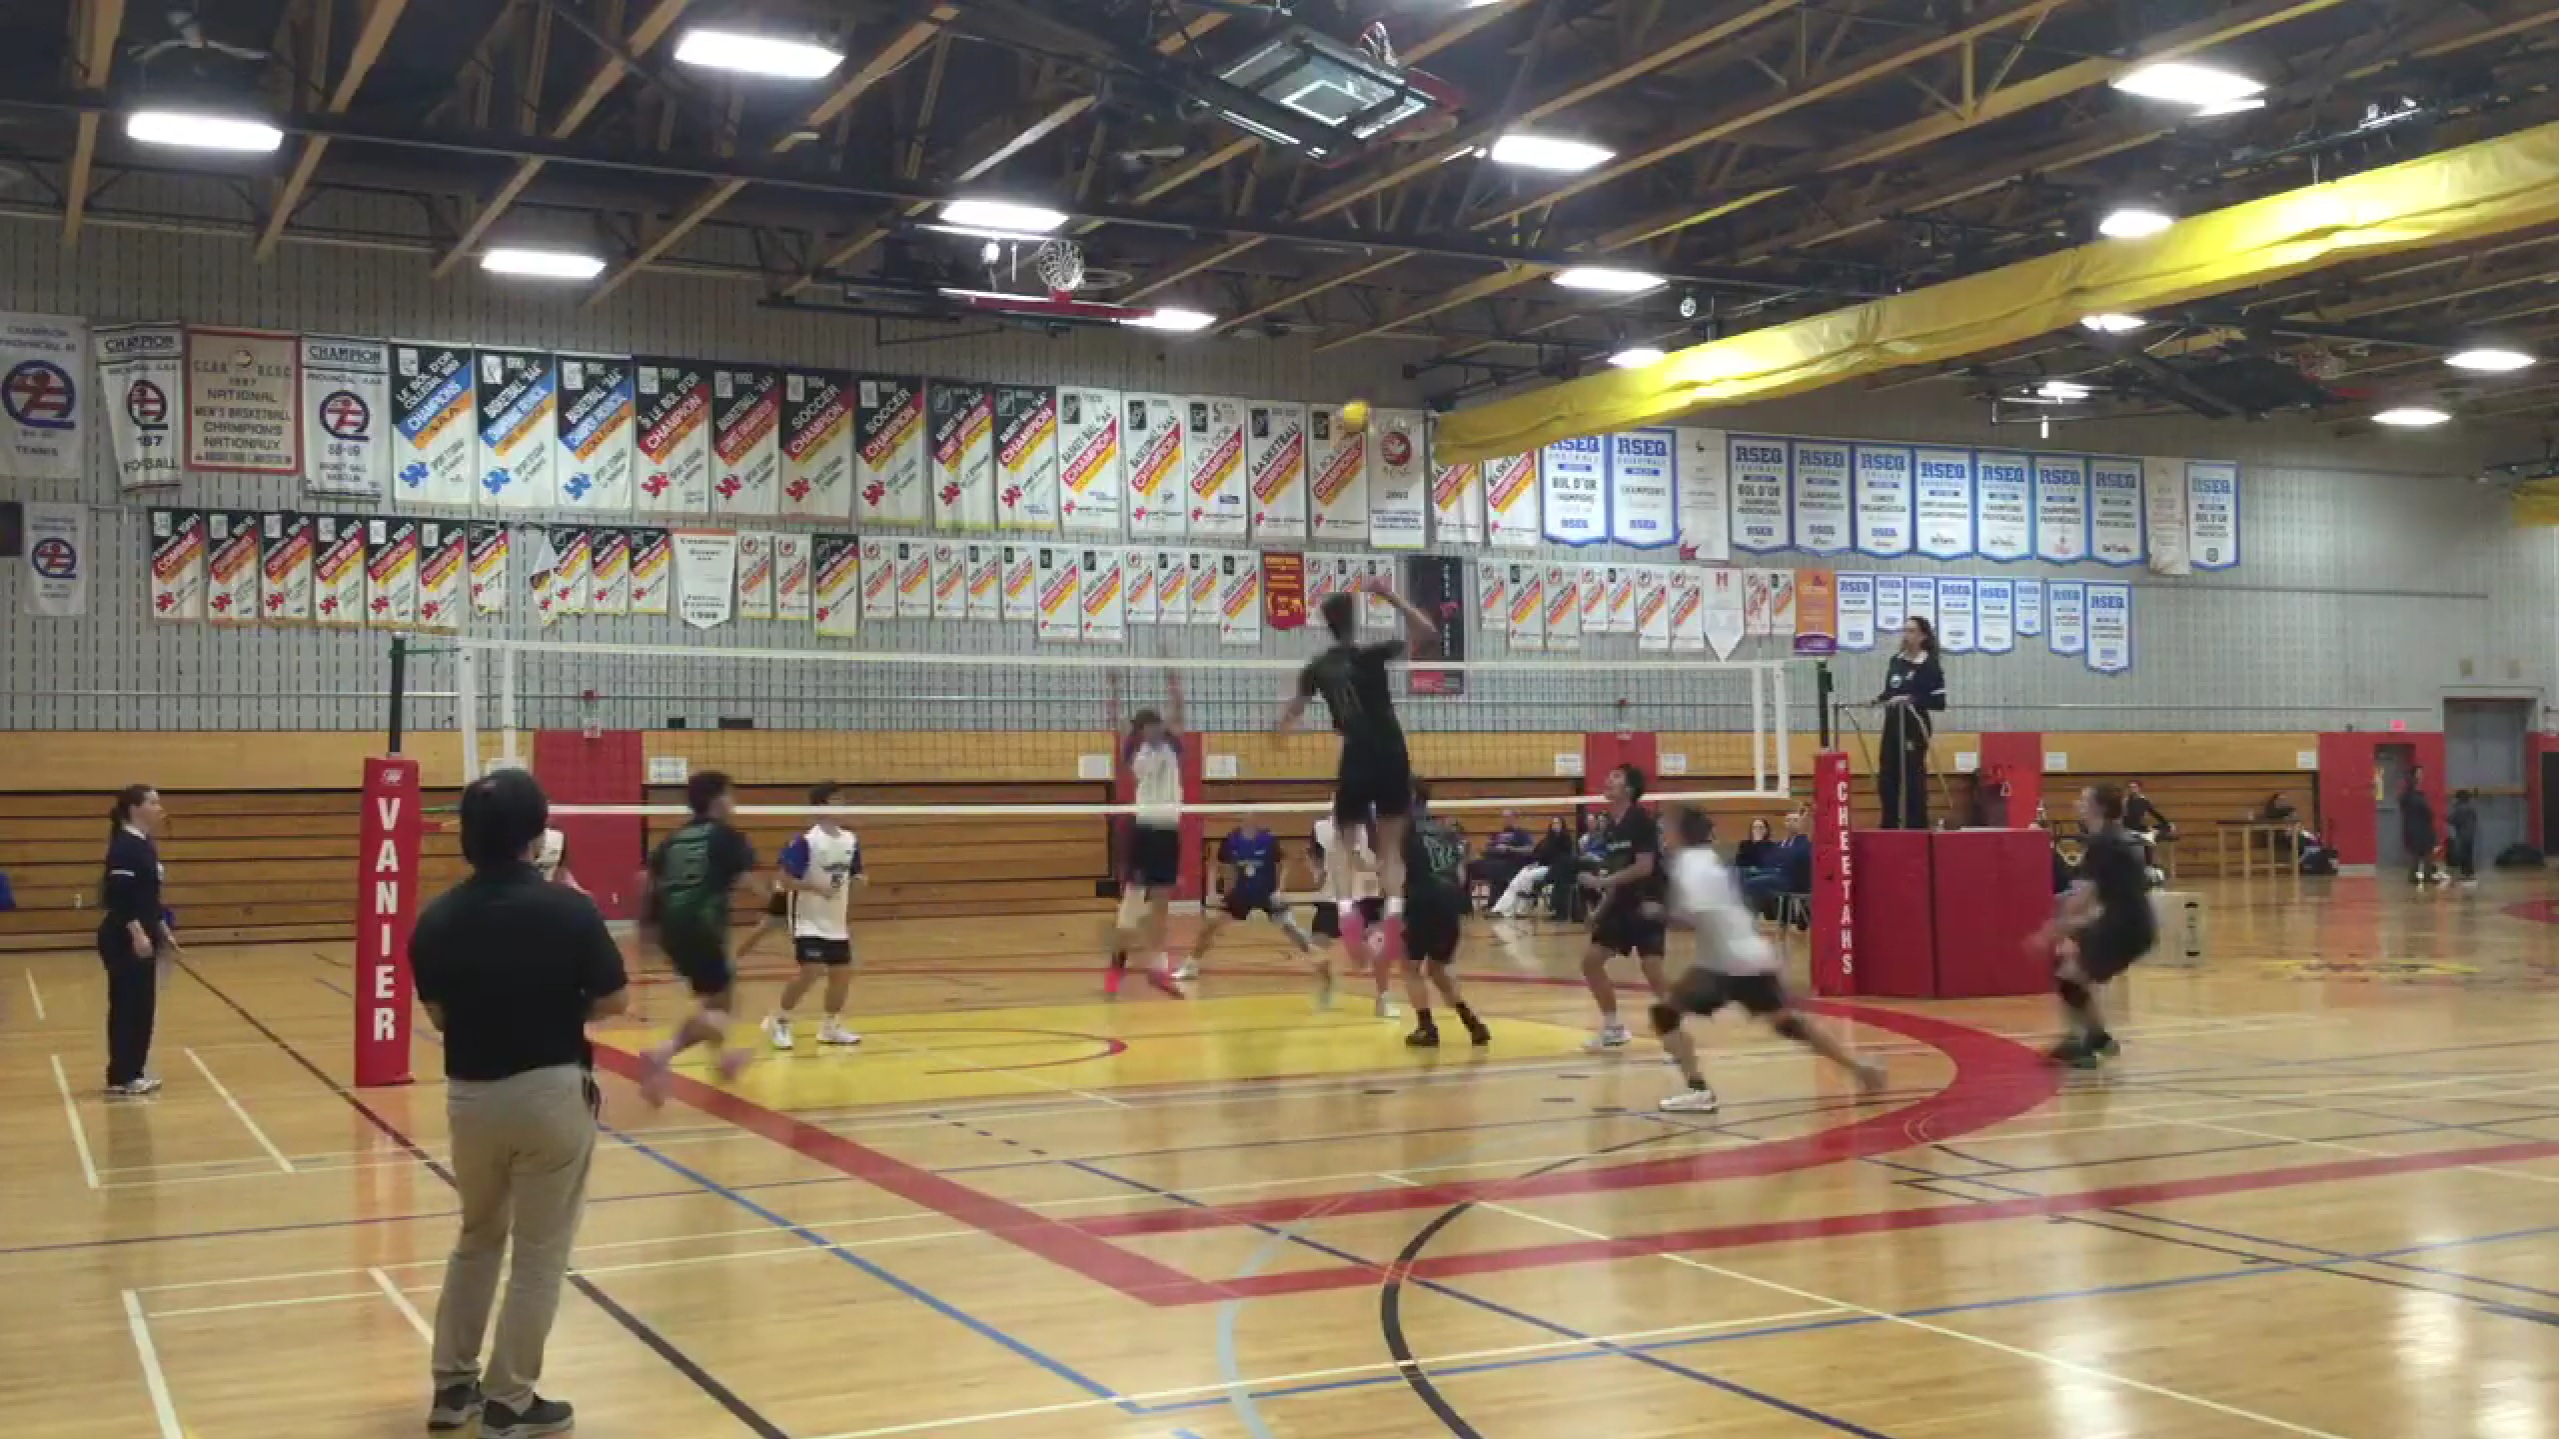Ball: (1334, 395, 1374, 436)
